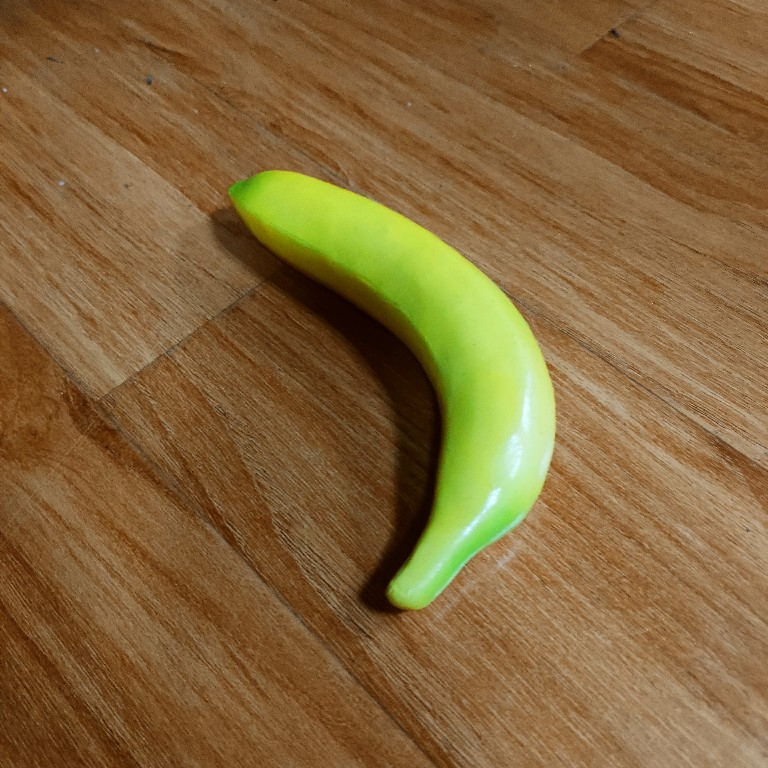fruit_banana: (220, 161, 563, 619)
